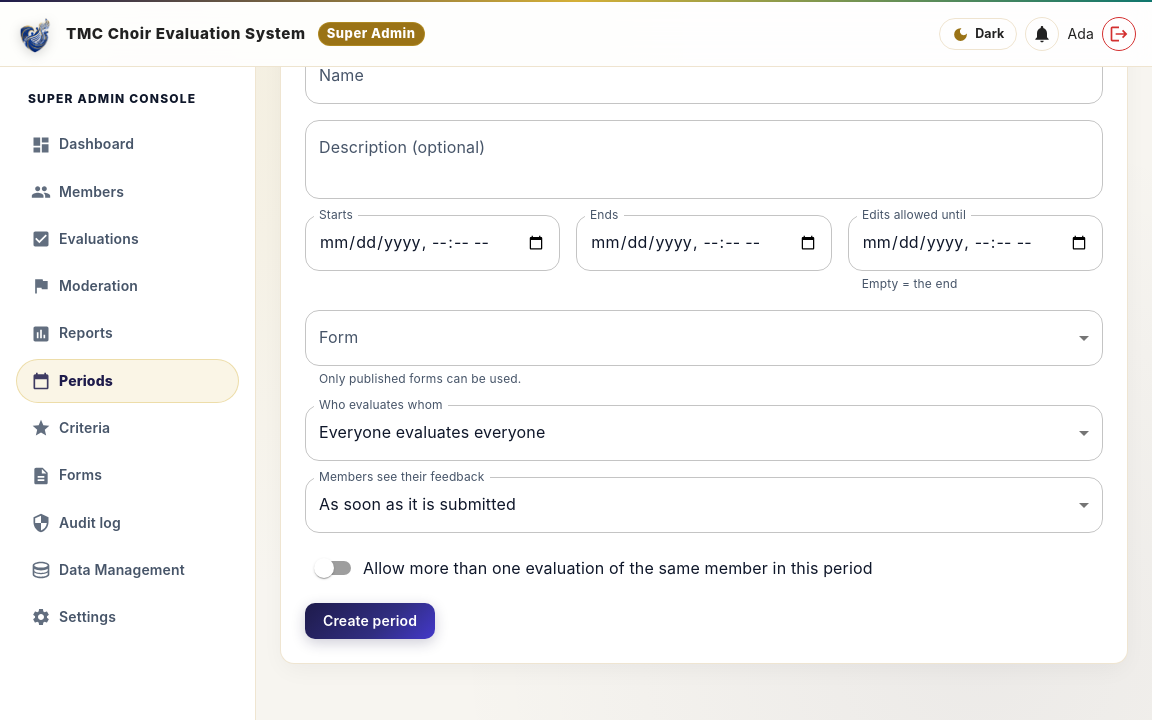
Test: Admin periods › validates dates before saving a new period
(page scrolled)
What coordinates should you click on to do the following:
click the button "Create period"
I would click on:
 (370, 621)
Its box is x1=305 y1=603 x2=435 y2=639.
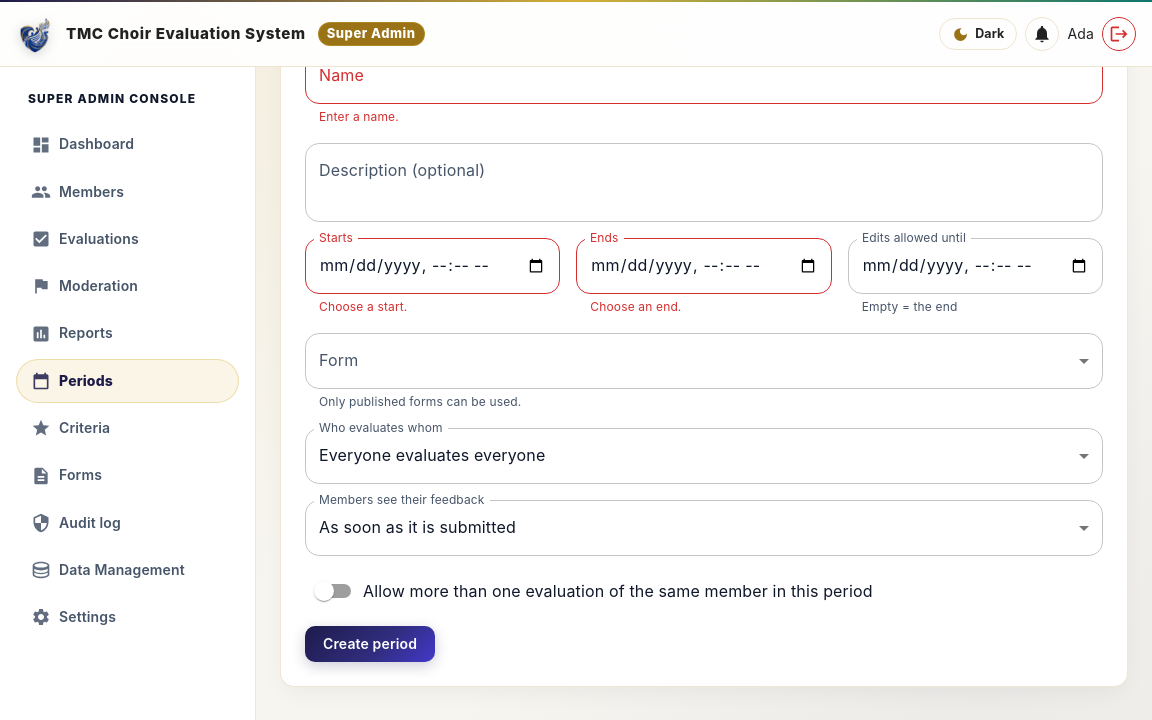
Check: the text "Enter a name." is shown, box x1=319 y1=109 x2=399 y2=124
Check: the text "Choose a start." is shown, box x1=319 y1=299 x2=408 y2=314
